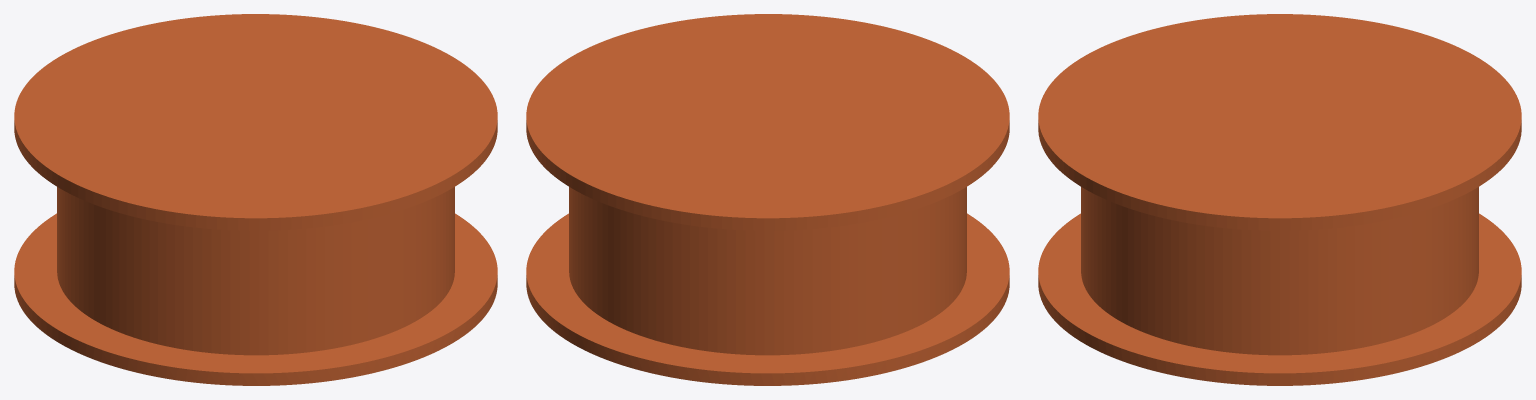
File: kl2000_console_h400.dae
The picture shows the model from 3 angles, left to right: view 1: azimuth 30°, elevation 25°; view 2: azimuth 150°, elevation 25°; view 3: azimuth 270°, elevation 25°; orthographic projection.
Parts seen in each view (by area): view 1: node0; view 2: node0; view 3: node0.
Part boxes in pixels (<box>): node0: <box>14,14,497,385</box>; node0: <box>526,14,1009,385</box>; node0: <box>1038,14,1521,385</box>.
Size of the model in its own units: 1.04 by 1.04 by 0.4.
